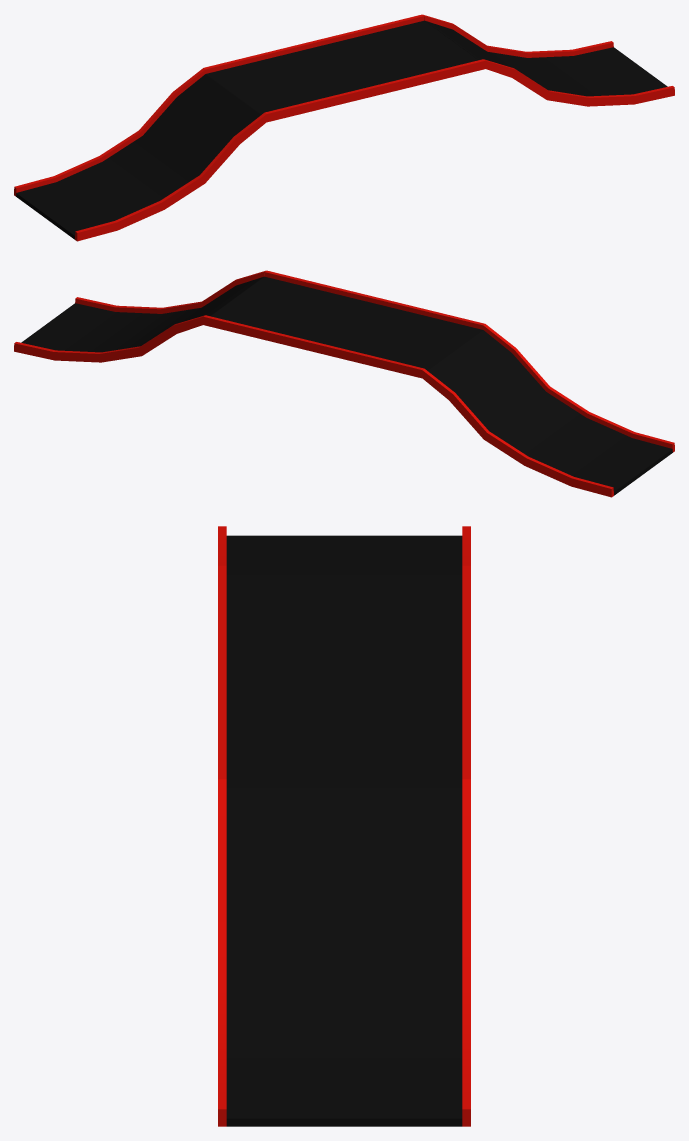
The model's file is _ertical_02.fbx.
The picture shows the model from 3 angles, top to bottom: view 1: azimuth 30°, elevation 25°; view 2: azimuth 150°, elevation 25°; view 3: azimuth 270°, elevation 25°; orthographic projection. The views are drawn at different scales.
Visible parts, largest first — view 1: Ramp_01; view 2: Ramp_01; view 3: Ramp_01.
Part boxes in pixels (bbox=[...]): Ramp_01: bbox=[14, 14, 674, 241]; Ramp_01: bbox=[14, 270, 674, 497]; Ramp_01: bbox=[218, 526, 470, 1126].
Bounding box in the file's own units: 323 × 41.86 × 59.06.
